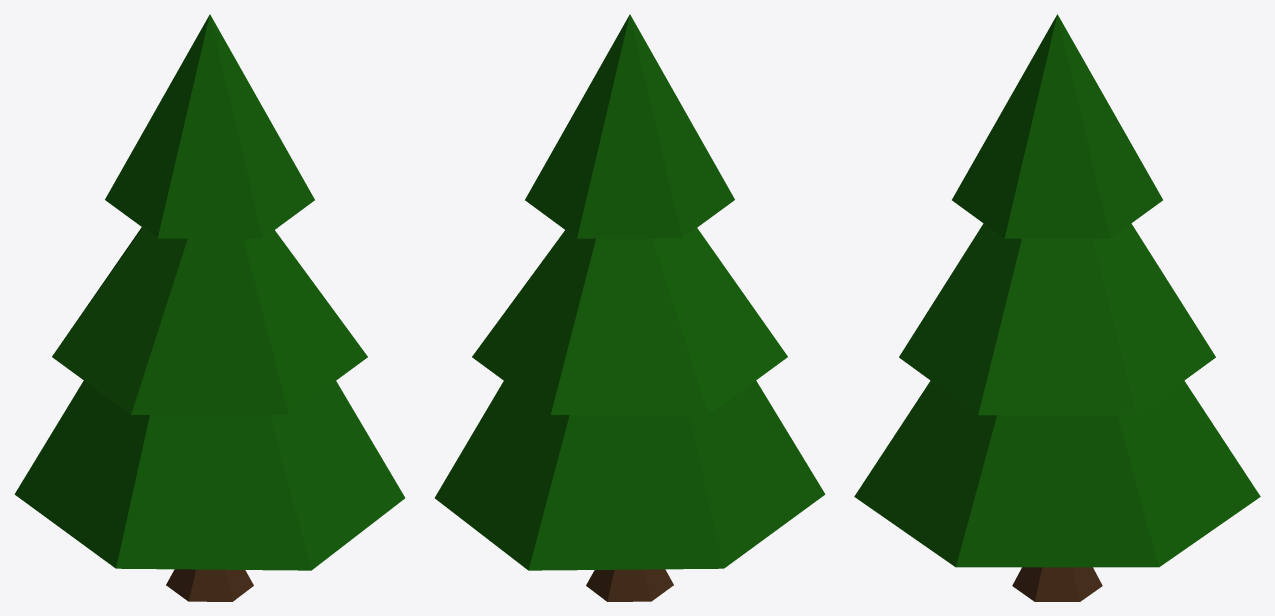
Rendered from Pino.fbx.
The picture shows the model from 3 angles, left to right: view 1: azimuth 30°, elevation 25°; view 2: azimuth 150°, elevation 25°; view 3: azimuth 270°, elevation 25°; orthographic projection.
Parts seen in each view (by area): view 1: Cylinder.001; view 2: Cylinder.001; view 3: Cylinder.001.
Part boxes in pixels (x1,y1,x2,y2): Cylinder.001: (14,14,404,601); Cylinder.001: (435,14,825,601); Cylinder.001: (854,14,1260,601).
Bounding box in the file's own units: 1521 × 2869 × 1848.
1 material, 1 textured.
